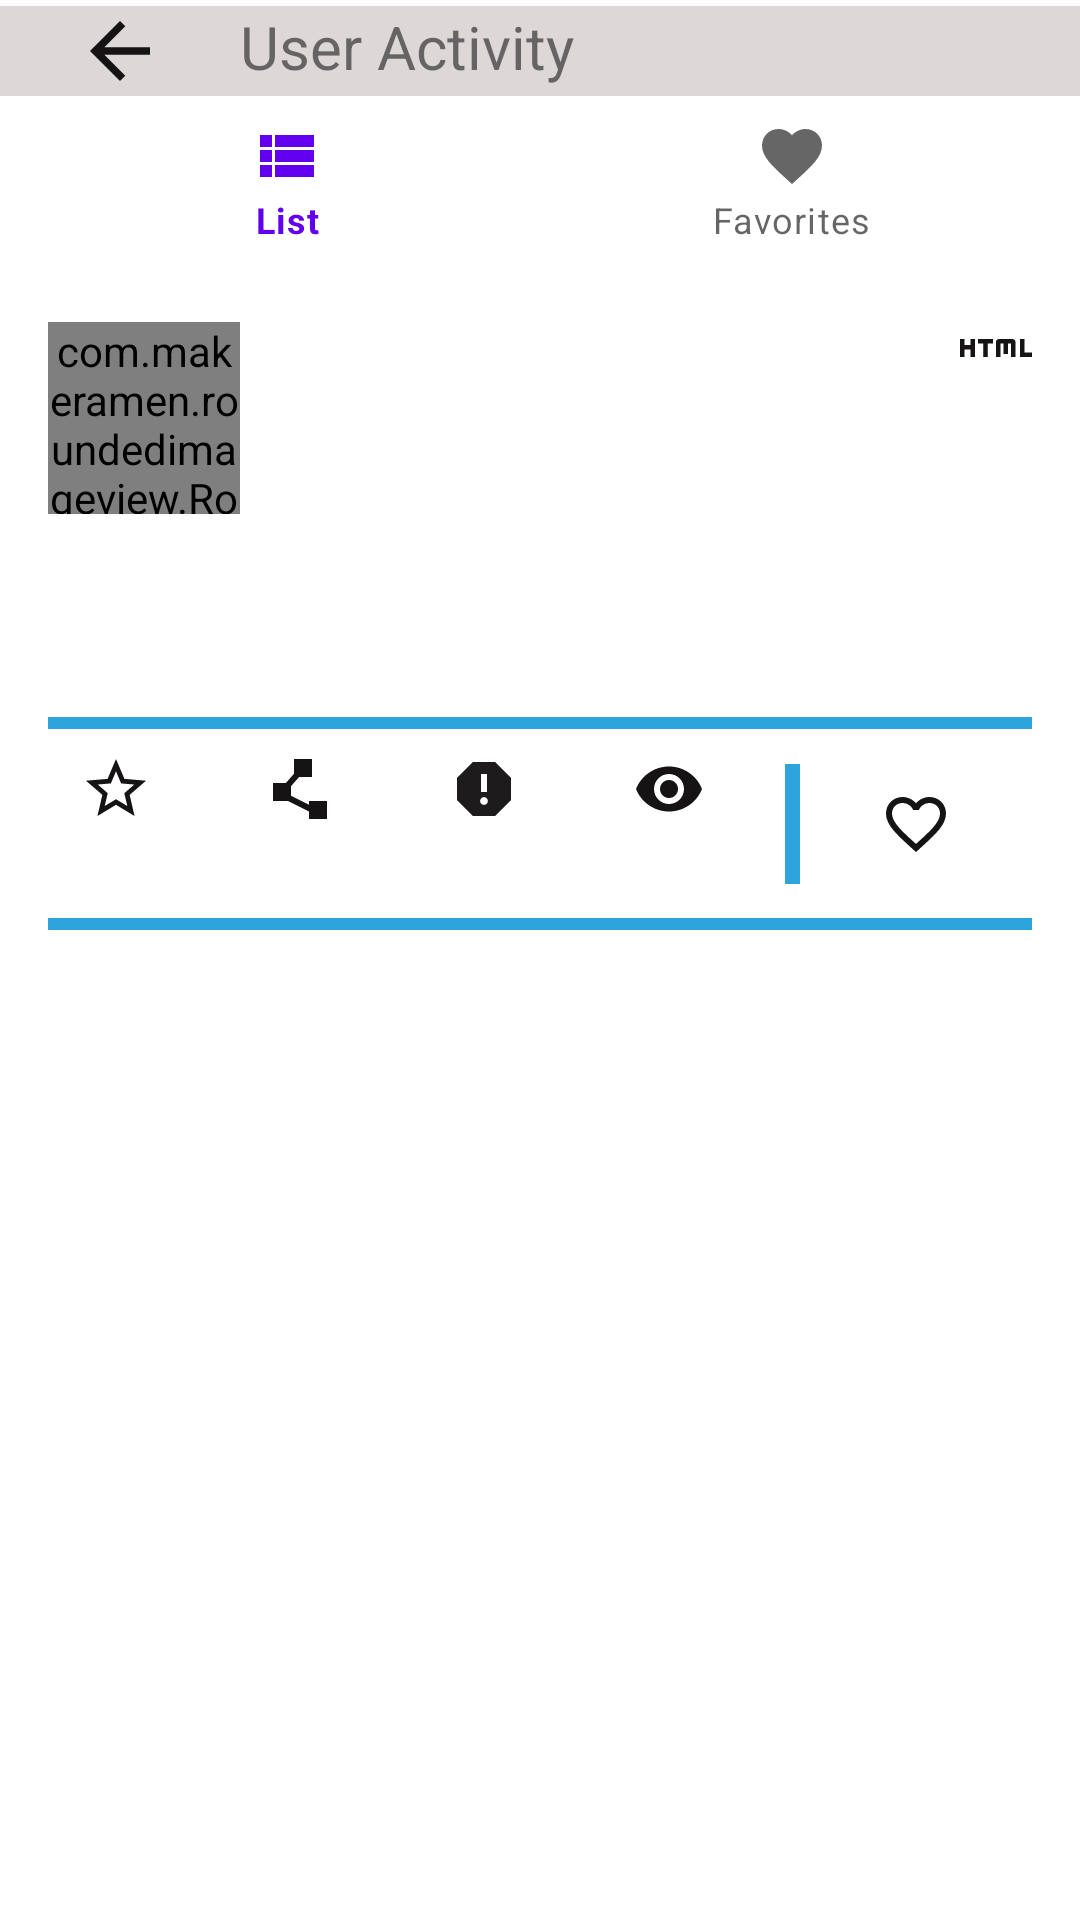

Where to tap for icons on this 1080px×1920px app screen, as point (x, y):
arrow back: point (120, 51)
favorite border: point (916, 824)
